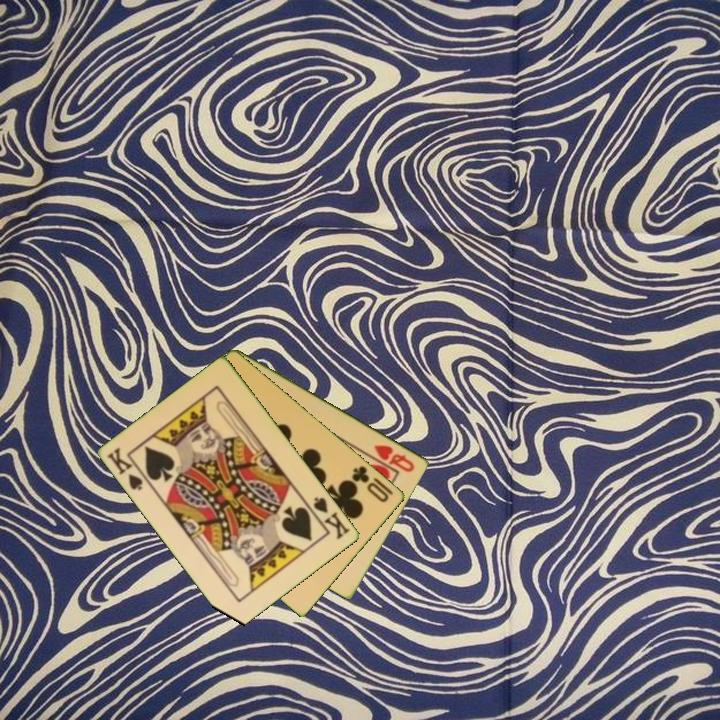10c: (348, 462, 392, 505)
Ks: (304, 493, 354, 542), (104, 444, 152, 494)
Qh: (371, 441, 418, 475)
